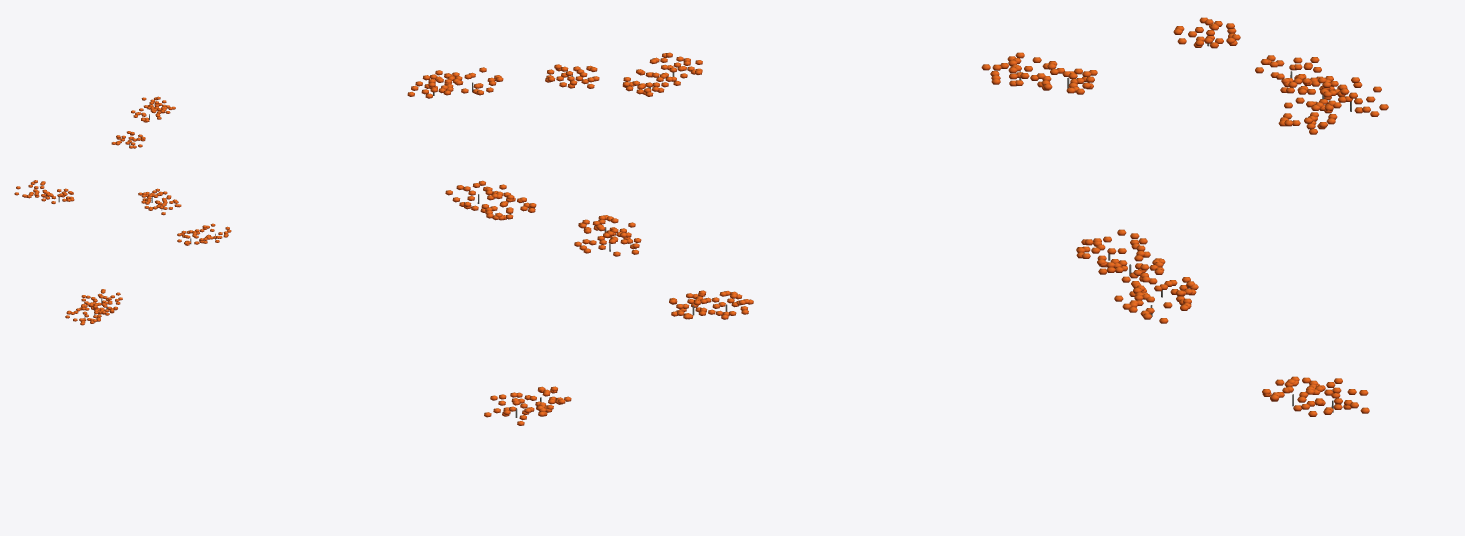
The model's file is rowanfruit.glb.
3 views of the same model, side by side, from view 1: azimuth 30°, elevation 25°; view 2: azimuth 150°, elevation 25°; view 3: azimuth 270°, elevation 25° (orthographic). The views are drawn at different scales.
Parts seen in each view (by area): view 1: rowanfruit; view 2: rowanfruit; view 3: rowanfruit.
Boxes of the visible parts, bbox=[...] form: rowanfruit: bbox=[14, 96, 231, 325]; rowanfruit: bbox=[407, 52, 753, 425]; rowanfruit: bbox=[981, 17, 1388, 416].
Bounding box in the file's own units: 1.35 × 1.82 × 1.27.
1 material, 1 textured.
